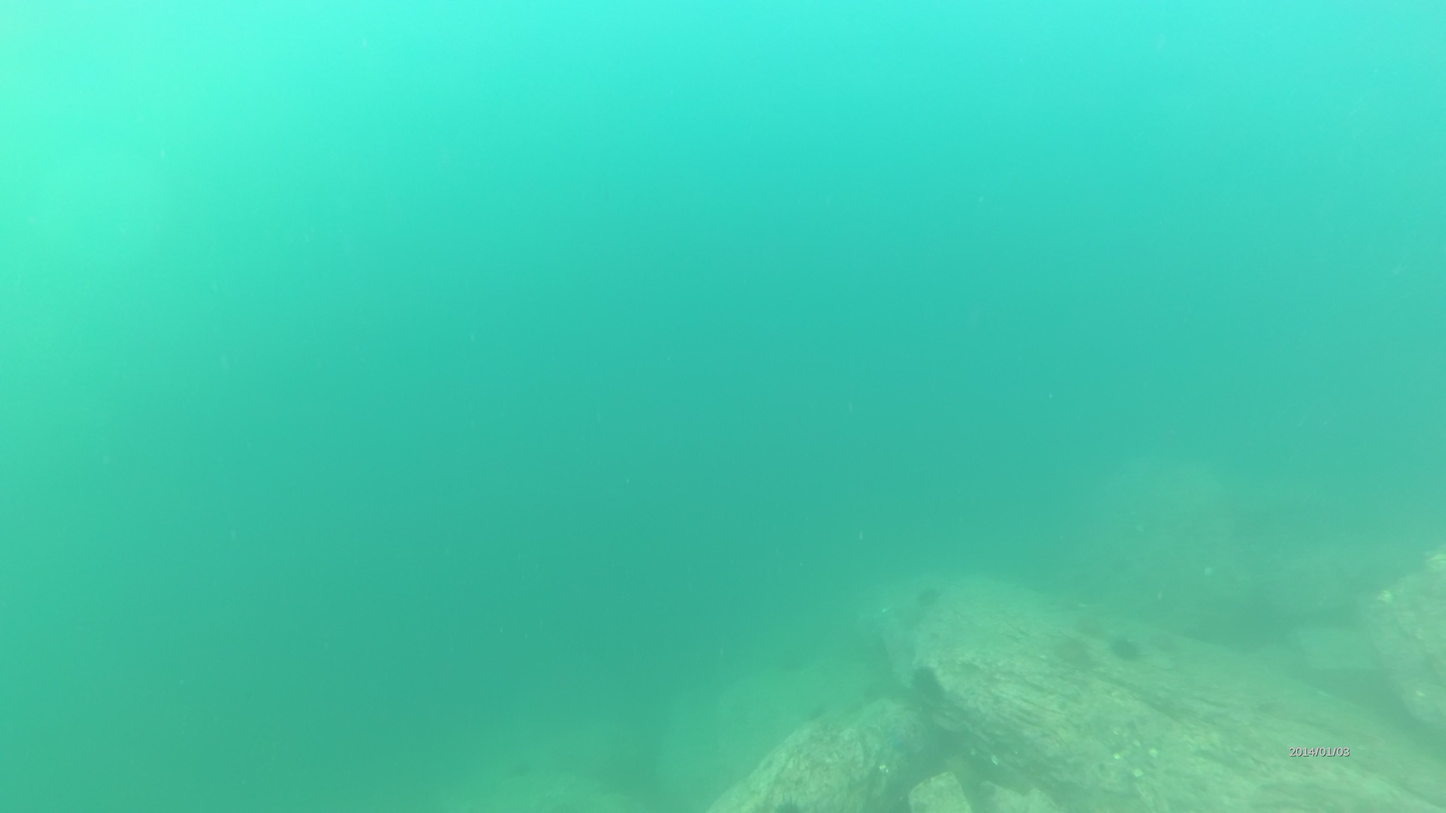starfish: (1108, 630, 1144, 668), (1151, 625, 1186, 661), (1056, 629, 1090, 665), (909, 664, 943, 696), (916, 585, 948, 611), (779, 653, 807, 676), (499, 760, 528, 779), (802, 703, 826, 722)
